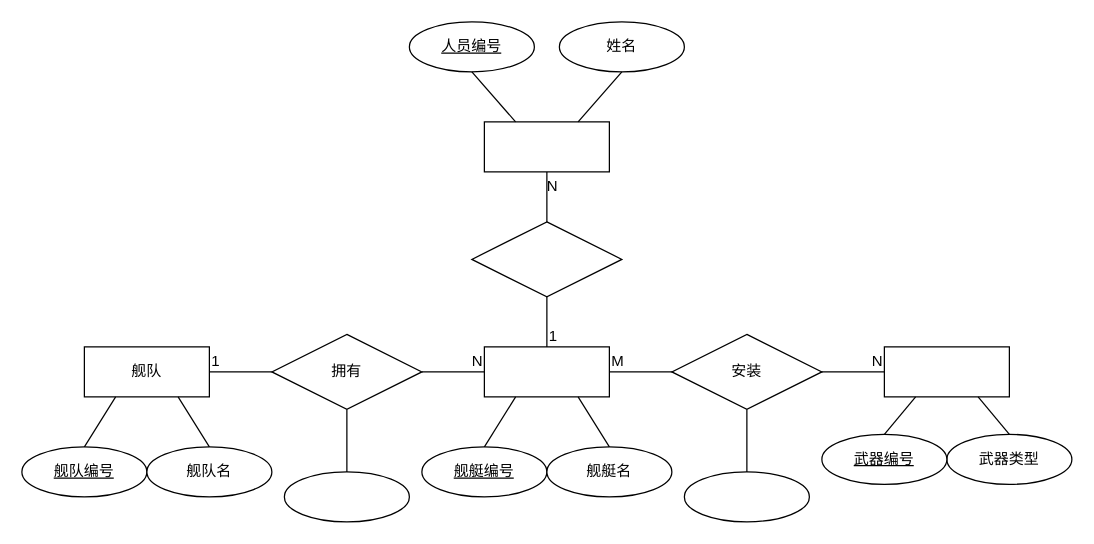
Some shapes in this 1094 by 544 pixel diagram are drawn without their labels. Each missing label, with the centre of its shape:
"入队时间" goes at pixel 346 496.
"安装时间" goes at pixel 746 496.
"官兵" goes at pixel 546 146.
"属于" goes at pixel 546 259.
"武器" goes at pixel 946 371.
"舰艇" goes at pixel 546 371.
